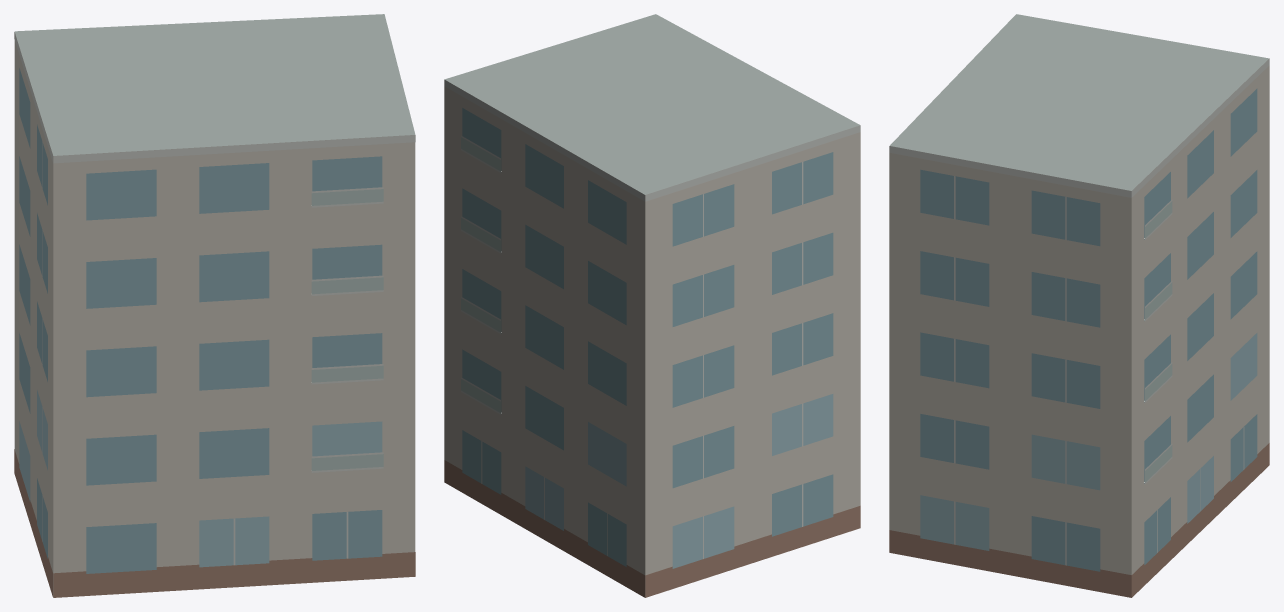
Rendered from survey-upis-32652829.glb.
3 renders of one model, left to right at view 1: azimuth 30°, elevation 25°; view 2: azimuth 150°, elevation 25°; view 3: azimuth 270°, elevation 25°, orthographic. The views are drawn at different scales.
Parts seen in each view (by area): view 1: survey-upis-32652829.tmp; view 2: survey-upis-32652829.tmp; view 3: survey-upis-32652829.tmp.
Part boxes in pixels (x1,y1,x2,y2): survey-upis-32652829.tmp: [14, 14, 415, 597]; survey-upis-32652829.tmp: [444, 14, 860, 597]; survey-upis-32652829.tmp: [889, 14, 1269, 597].
Bounding box in the file's own units: 13.54 × 14.5 × 12.29.
